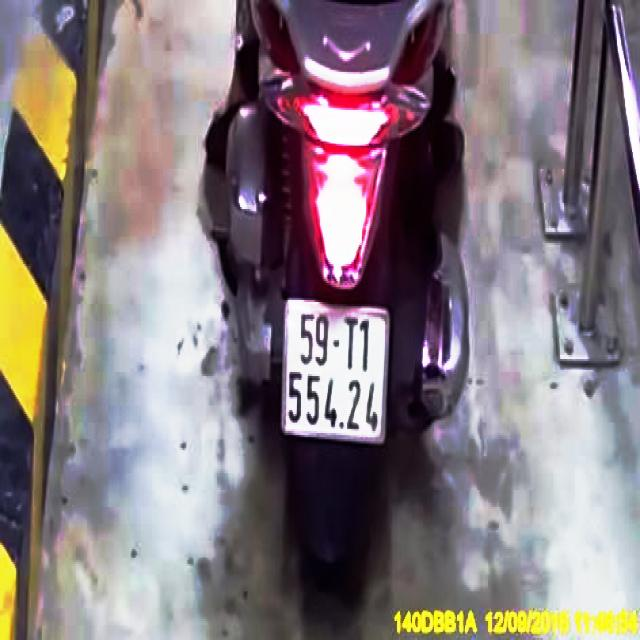license_plate: (285, 303, 390, 441)
